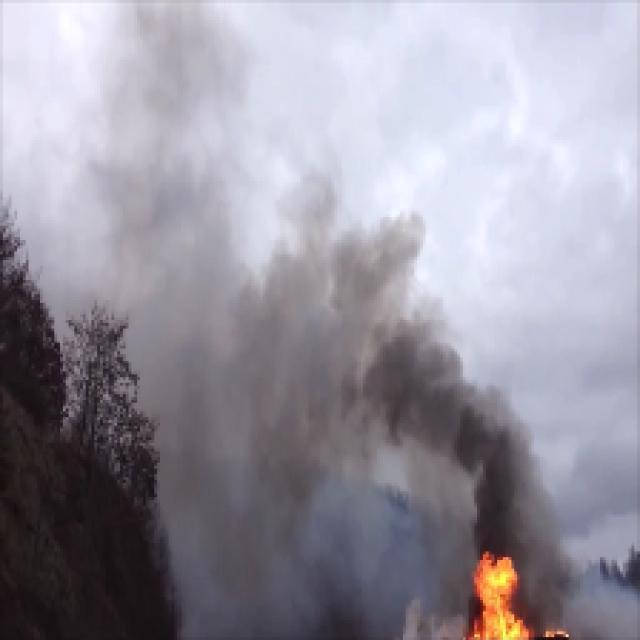Smoke: (170, 230, 436, 465), (444, 376, 554, 543)
